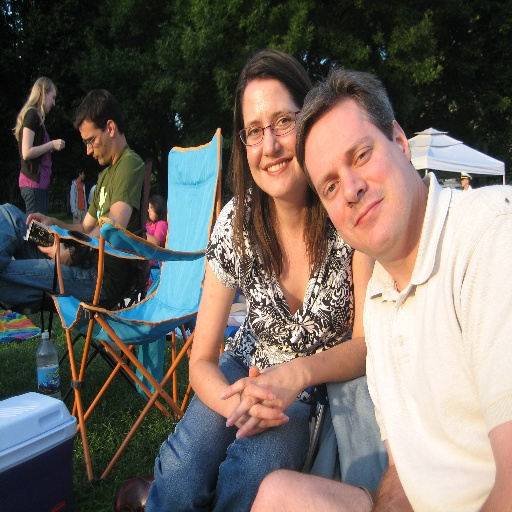hand: (234, 364, 288, 439), (37, 233, 64, 261), (25, 210, 58, 227), (51, 138, 64, 149), (73, 210, 80, 221)
